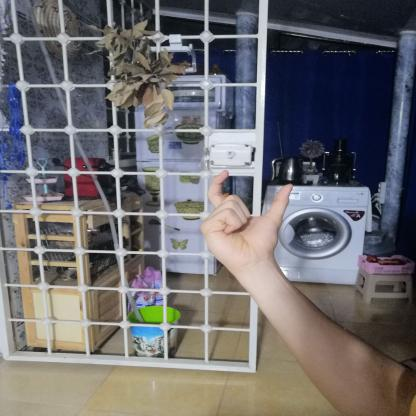NOON: (186, 162, 302, 277)
